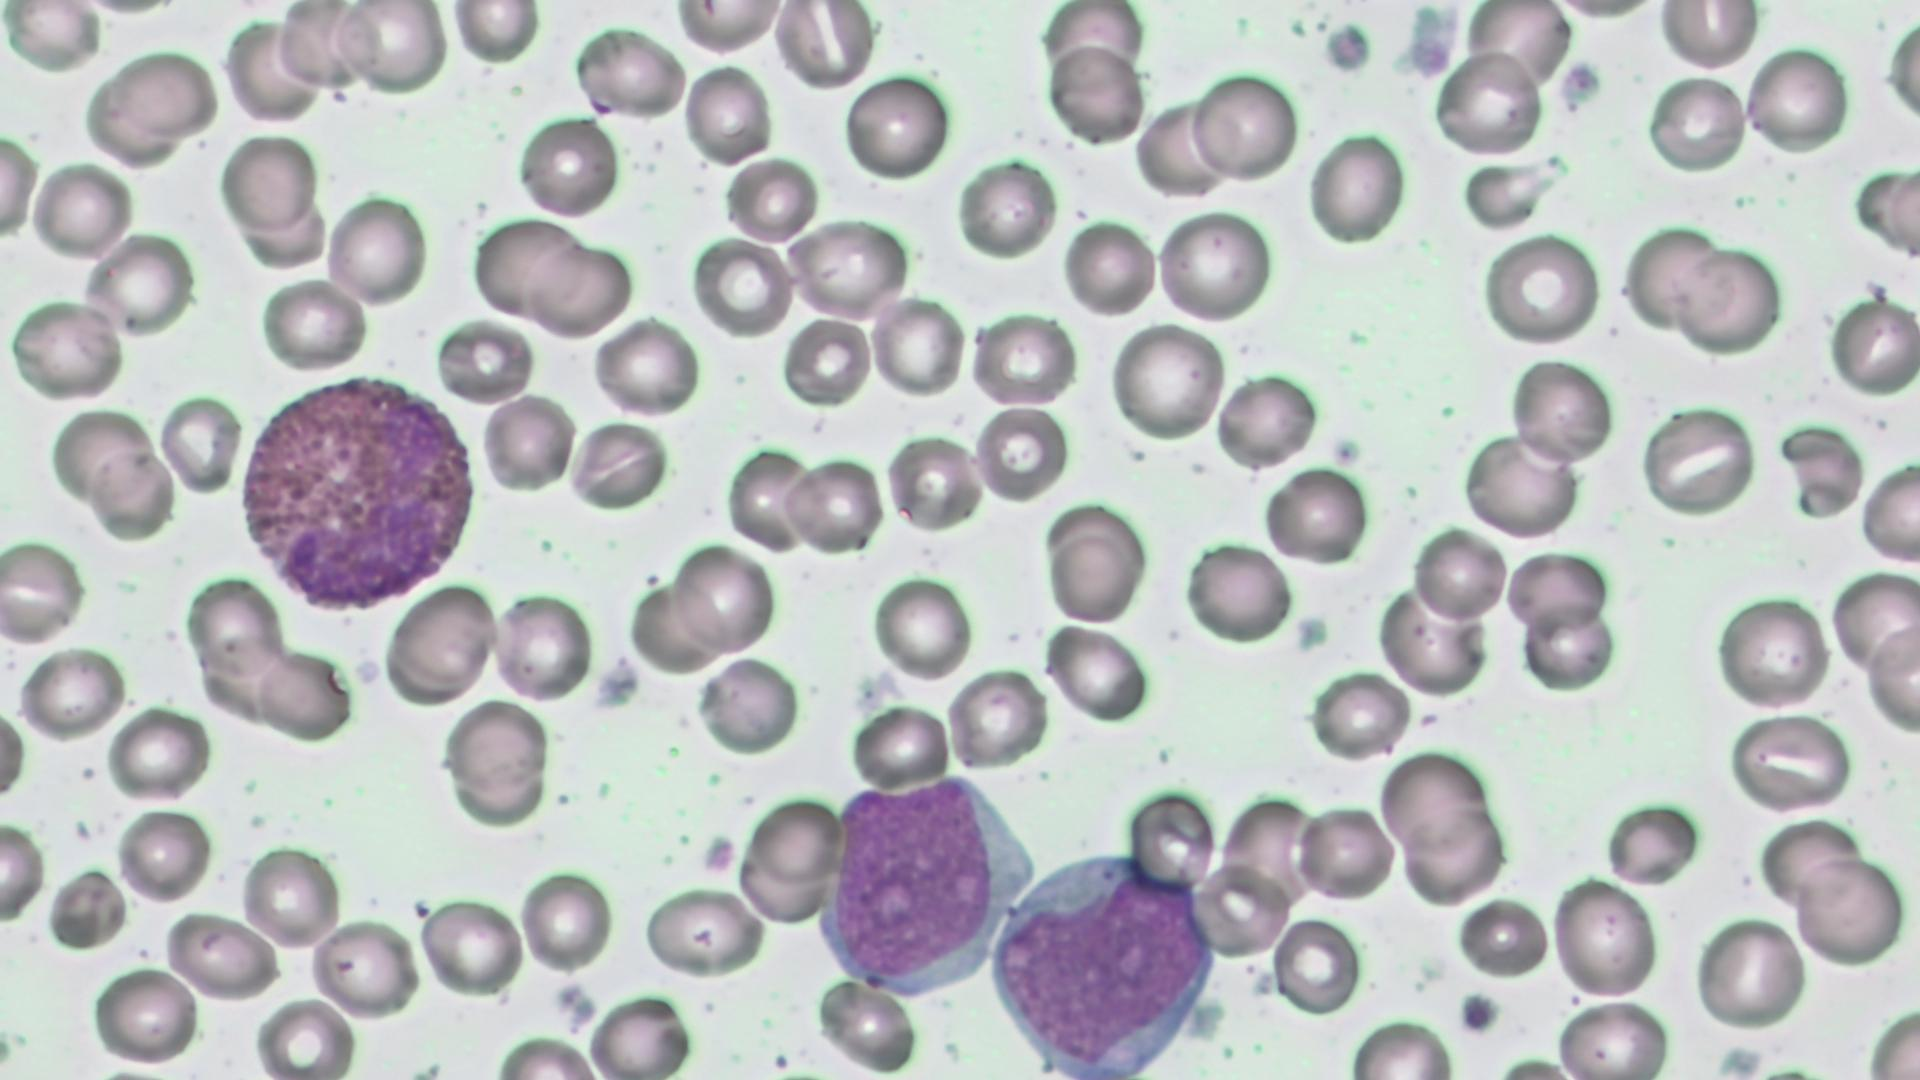Platelets: (1322, 20, 1375, 76), (1558, 56, 1604, 110), (1454, 988, 1502, 1037), (1292, 613, 1330, 654)
RBC: (1107, 317, 1227, 444), (1482, 228, 1602, 350), (1713, 589, 1830, 714), (1155, 205, 1274, 326), (384, 579, 496, 704), (1550, 873, 1660, 1000), (1791, 851, 1908, 968), (1692, 912, 1806, 1032), (1375, 581, 1490, 699), (1638, 403, 1758, 516), (840, 69, 954, 185), (1461, 432, 1580, 542), (81, 228, 196, 341), (1430, 47, 1545, 160), (6, 293, 124, 403), (1189, 66, 1298, 183), (1728, 711, 1854, 812), (1181, 536, 1295, 646), (323, 192, 428, 311), (1676, 241, 1786, 353), (1306, 127, 1408, 247), (1377, 746, 1490, 854), (786, 217, 909, 316), (670, 541, 779, 652), (468, 214, 584, 318), (1508, 356, 1616, 466), (492, 589, 595, 703), (1618, 220, 1720, 335), (570, 21, 687, 121), (642, 884, 766, 978), (1743, 45, 1848, 156), (222, 12, 324, 126), (1040, 620, 1150, 724), (90, 963, 201, 1066), (312, 916, 419, 1022), (418, 892, 523, 1000), (515, 111, 620, 219), (1262, 463, 1370, 568), (870, 573, 974, 682), (1398, 806, 1510, 907), (591, 314, 699, 418), (48, 406, 158, 507), (103, 46, 218, 142), (239, 842, 344, 947), (186, 572, 285, 683), (812, 975, 923, 1074), (1463, 2, 1576, 98), (1042, 44, 1148, 145), (957, 154, 1058, 260), (479, 388, 578, 496), (966, 309, 1077, 405), (691, 236, 794, 339), (945, 667, 1047, 771), (1213, 370, 1318, 471), (335, 1, 449, 94), (532, 237, 638, 337), (105, 705, 212, 804), (26, 162, 134, 260), (1294, 801, 1396, 903), (1644, 70, 1746, 172), (1132, 96, 1231, 201), (260, 276, 366, 374), (1124, 783, 1219, 892), (517, 867, 612, 976), (1830, 566, 1920, 681), (15, 644, 125, 738), (696, 654, 797, 756), (971, 404, 1078, 500), (722, 443, 814, 554), (1045, 524, 1145, 626), (884, 430, 980, 536), (682, 59, 776, 167), (165, 910, 276, 1001), (786, 454, 885, 556), (869, 295, 967, 398), (445, 697, 549, 794), (1826, 291, 1918, 400), (218, 131, 317, 231), (1752, 820, 1857, 914), (1061, 217, 1160, 316), (1411, 524, 1508, 625), (720, 152, 822, 248), (253, 646, 353, 743), (114, 806, 211, 906), (1308, 668, 1410, 763), (584, 988, 694, 1076), (1504, 549, 1612, 638), (1552, 997, 1670, 1078), (1196, 860, 1292, 958), (568, 417, 668, 510), (1778, 420, 1868, 523), (158, 389, 242, 499), (628, 578, 721, 676), (0, 537, 84, 645), (772, 2, 875, 90), (1272, 914, 1362, 1014), (745, 794, 842, 886), (252, 993, 358, 1077), (1517, 603, 1618, 691), (848, 702, 949, 790), (1037, 2, 1148, 81), (779, 313, 874, 405), (1604, 796, 1702, 885), (1452, 892, 1551, 979), (87, 448, 178, 540), (48, 857, 129, 949), (1344, 1012, 1456, 1078), (1654, 2, 1760, 70), (1857, 457, 1920, 566), (1864, 621, 1920, 739), (670, 0, 784, 53), (450, 1, 540, 65), (1881, 9, 1920, 156), (489, 1032, 604, 1078), (0, 822, 46, 926)
WBC: (234, 371, 480, 615), (985, 845, 1223, 1075), (815, 768, 1030, 998)
